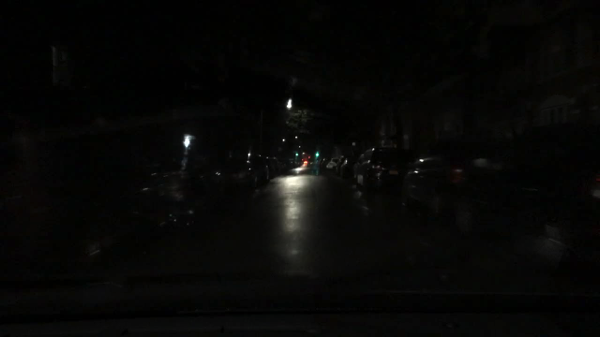car: (399, 143, 553, 237), (125, 169, 227, 226), (353, 147, 413, 197), (227, 159, 252, 188), (251, 155, 269, 182), (267, 156, 282, 175), (340, 157, 354, 177), (334, 156, 346, 174), (278, 157, 290, 170), (327, 157, 339, 169), (289, 158, 301, 168), (319, 158, 328, 167), (313, 160, 319, 168)
traffic light: (295, 151, 299, 157), (315, 151, 318, 158)
